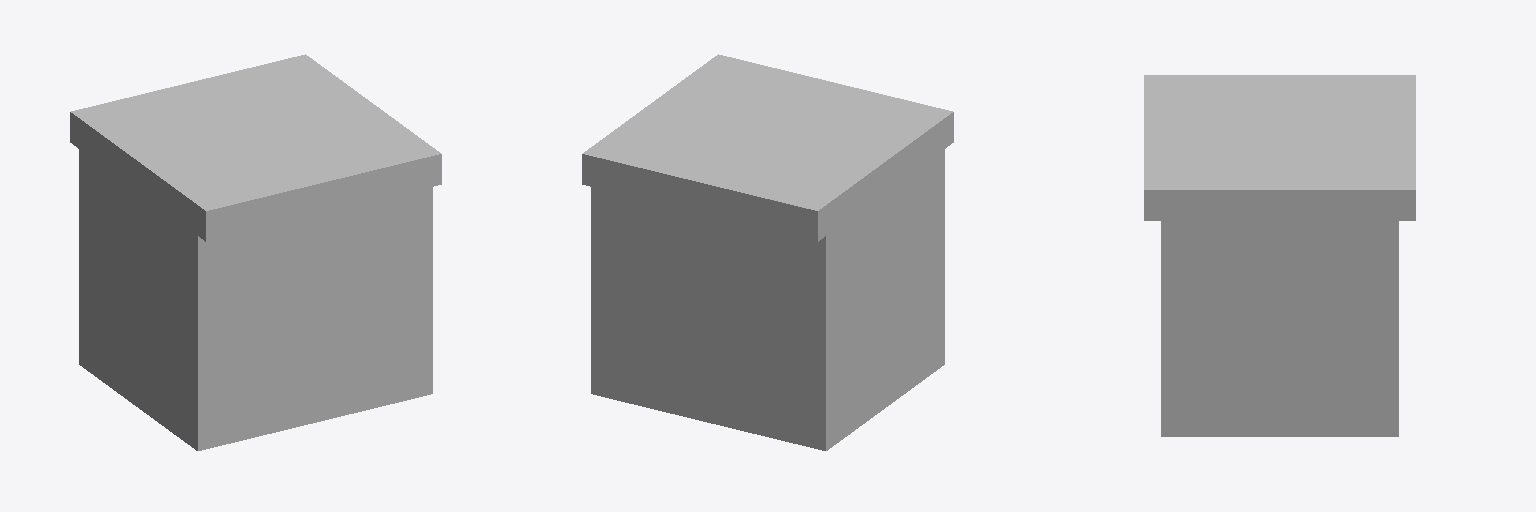
Rendered from plan.obj.
3 views of the same model, side by side, from view 1: azimuth 30°, elevation 25°; view 2: azimuth 150°, elevation 25°; view 3: azimuth 270°, elevation 25° (orthographic).
Parts seen in each view (by area): view 1: cube, cube.001; view 2: cube, cube.001; view 3: cube, cube.001.
Boxes of the visible parts, x1,y1,x2,y2 form: cube: [79, 149, 432, 450]; cube.001: [70, 54, 441, 241]; cube: [591, 149, 944, 450]; cube.001: [582, 54, 953, 241]; cube: [1161, 221, 1398, 436]; cube.001: [1144, 75, 1415, 220].
Bounding box in the file's own units: 1 × 1 × 1.